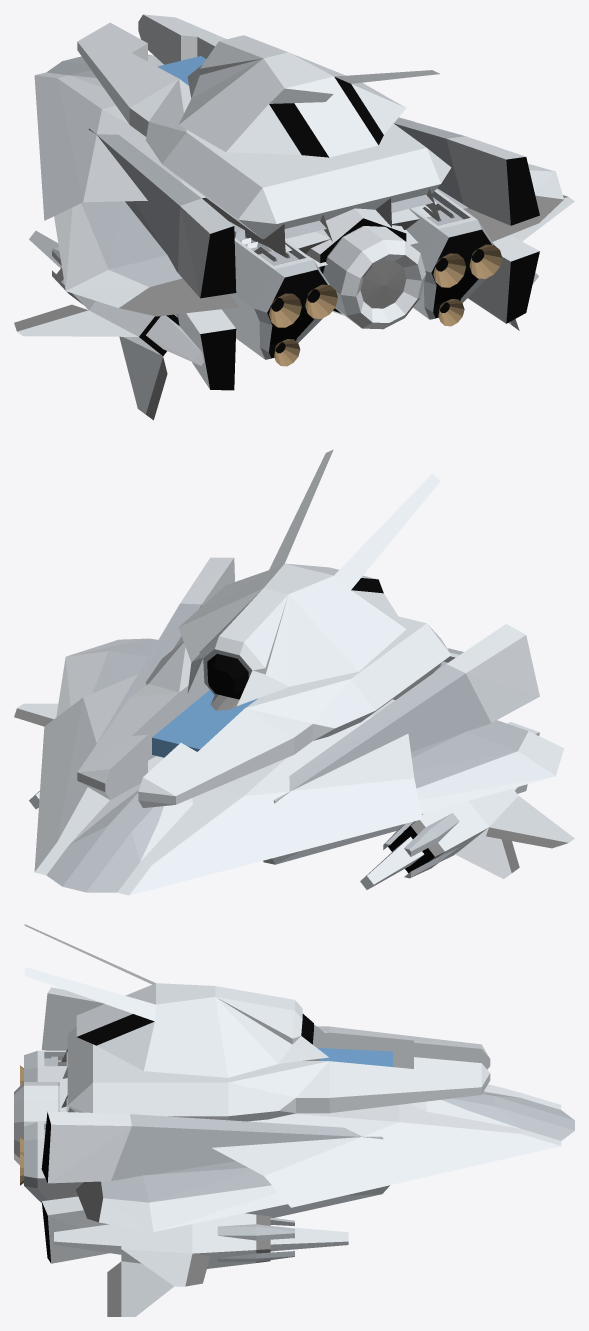
Rendered from ship.fbx.
The picture shows the model from 3 angles, top to bottom: view 1: azimuth 30°, elevation 25°; view 2: azimuth 150°, elevation 25°; view 3: azimuth 270°, elevation 25°; orthographic projection. The views are drawn at different scales.
Parts seen in each view (by area): view 1: Shape_IndexedFaceSet.017, Shape_IndexedFaceSet.011, Shape_IndexedFaceSet.007, Shape_IndexedFaceSet.010, Shape_IndexedFaceSet.023, Shape_IndexedFaceSet.012, Shape_IndexedFaceSet.013, Shape_IndexedFaceSet.009, Shape_IndexedFaceSet.028, Shape_IndexedFaceSet.026, Shape_IndexedFaceSet.032, Shape_IndexedFaceSet.018 (+12 smaller); view 2: Shape_IndexedFaceSet.017, Shape_IndexedFaceSet.007, Shape_IndexedFaceSet.010, Shape_IndexedFaceSet.011, Shape_IndexedFaceSet.023, Shape_IndexedFaceSet.006, Shape_IndexedFaceSet.021, Shape_IndexedFaceSet.022, Shape_IndexedFaceSet.024, Shape_IndexedFaceSet.020; view 3: Shape_IndexedFaceSet.017, Shape_IndexedFaceSet.007, Shape_IndexedFaceSet.011, Shape_IndexedFaceSet.010, Shape_IndexedFaceSet.023, Shape_IndexedFaceSet.006, Shape_IndexedFaceSet.013, Shape_IndexedFaceSet.024, Shape_IndexedFaceSet.022, Shape_IndexedFaceSet.032, Shape_IndexedFaceSet.034, Shape_IndexedFaceSet.021 (+5 smaller).
Part boxes in pixels (x1,y1,x2,y2): Shape_IndexedFaceSet.017: [77, 14, 451, 239]; Shape_IndexedFaceSet.011: [54, 136, 563, 388]; Shape_IndexedFaceSet.007: [34, 54, 418, 266]; Shape_IndexedFaceSet.010: [81, 117, 467, 321]; Shape_IndexedFaceSet.023: [17, 197, 574, 414]; Shape_IndexedFaceSet.012: [200, 157, 539, 390]; Shape_IndexedFaceSet.013: [323, 226, 425, 322]; Shape_IndexedFaceSet.009: [119, 195, 563, 316]; Shape_IndexedFaceSet.028: [222, 238, 312, 359]; Shape_IndexedFaceSet.026: [229, 221, 330, 359]; Shape_IndexedFaceSet.032: [422, 191, 494, 319]; Shape_IndexedFaceSet.018: [269, 77, 383, 157]; Shape_IndexedFaceSet.017: [77, 449, 450, 807]; Shape_IndexedFaceSet.007: [34, 674, 422, 895]; Shape_IndexedFaceSet.010: [93, 603, 528, 864]; Shape_IndexedFaceSet.011: [56, 557, 563, 813]; Shape_IndexedFaceSet.023: [17, 703, 574, 889]; Shape_IndexedFaceSet.006: [46, 790, 163, 892]; Shape_IndexedFaceSet.021: [152, 690, 258, 757]; Shape_IndexedFaceSet.022: [14, 708, 567, 872]; Shape_IndexedFaceSet.024: [383, 813, 459, 878]; Shape_IndexedFaceSet.020: [207, 653, 248, 699]; Shape_IndexedFaceSet.017: [24, 924, 490, 1121]; Shape_IndexedFaceSet.007: [212, 1084, 561, 1207]; Shape_IndexedFaceSet.011: [41, 987, 287, 1263]; Shape_IndexedFaceSet.010: [101, 1114, 389, 1217]; Shape_IndexedFaceSet.023: [54, 1213, 348, 1316]; Shape_IndexedFaceSet.006: [66, 1052, 574, 1140]; Shape_IndexedFaceSet.013: [14, 1082, 57, 1157]; Shape_IndexedFaceSet.024: [217, 1217, 294, 1261]; Shape_IndexedFaceSet.022: [107, 1214, 270, 1316]; Shape_IndexedFaceSet.032: [24, 1122, 47, 1202]; Shape_IndexedFaceSet.034: [37, 1122, 82, 1200]; Shape_IndexedFaceSet.021: [317, 1048, 392, 1066].
Bounding box in the file's own units: 0.7706 × 0.4372 × 0.7615.
